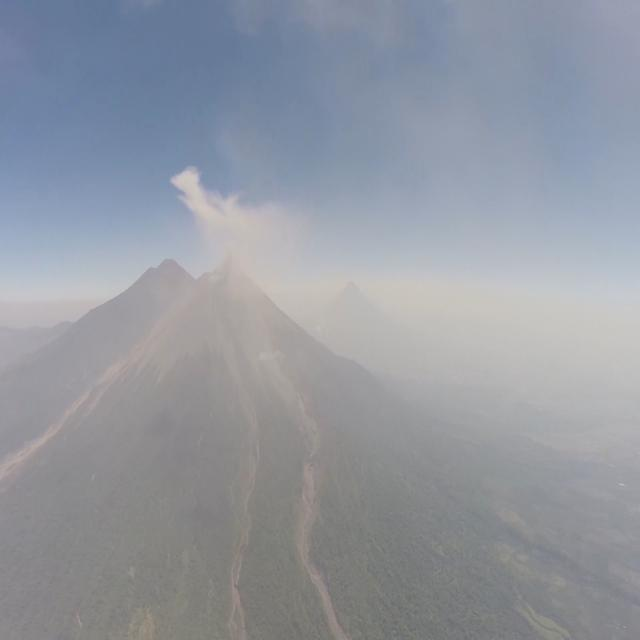Plume: (168, 160, 314, 269)
